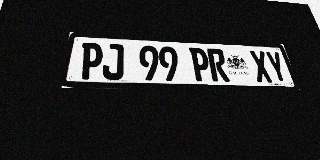9: (158, 46, 180, 81), (139, 45, 160, 81)
J: (102, 43, 124, 80)
P: (79, 42, 103, 80), (189, 48, 212, 82)
R: (207, 48, 230, 82)
X: (249, 50, 274, 83)
Y: (264, 51, 290, 83)
